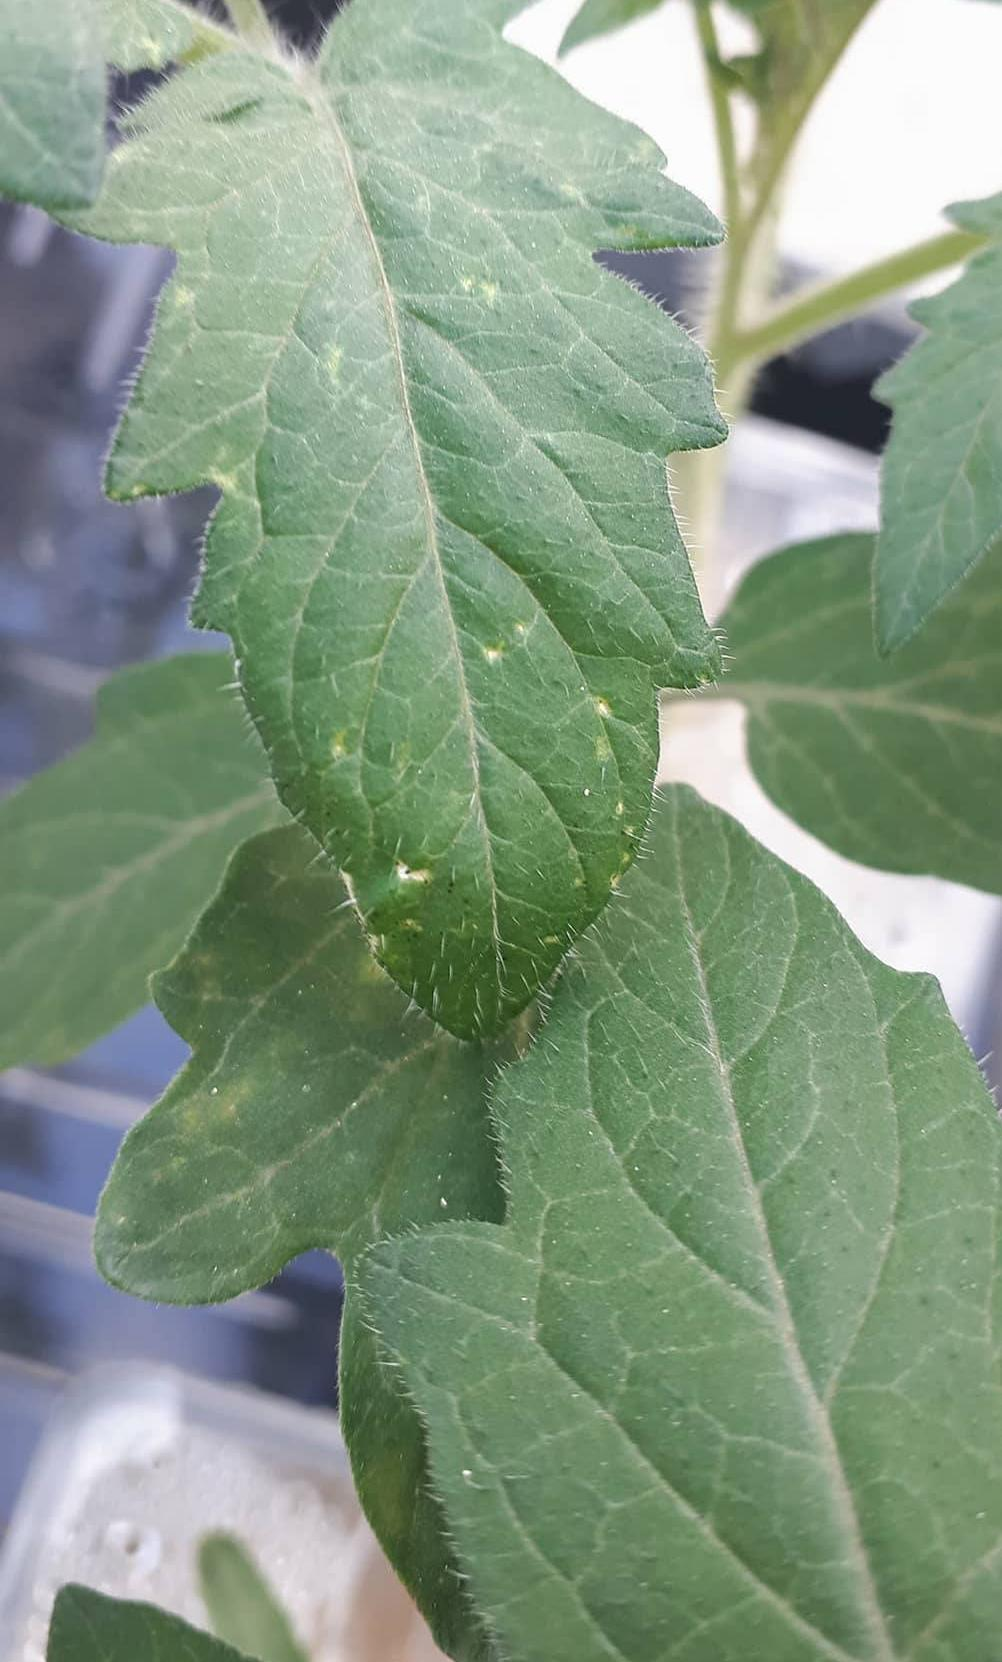Tomato mold leaf: (123, 0, 749, 1062), (359, 747, 1002, 1662)
